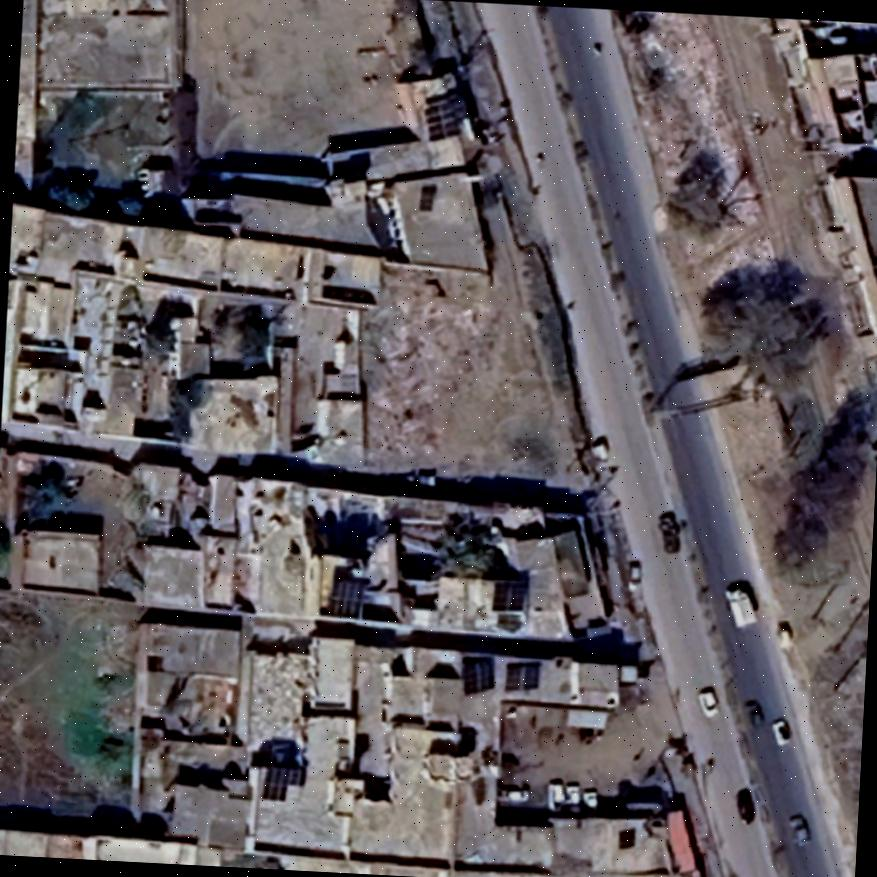Solarpanel: (417, 82, 473, 146), (255, 754, 306, 804), (322, 570, 371, 620), (455, 648, 500, 701), (488, 572, 532, 616), (500, 654, 544, 695)
